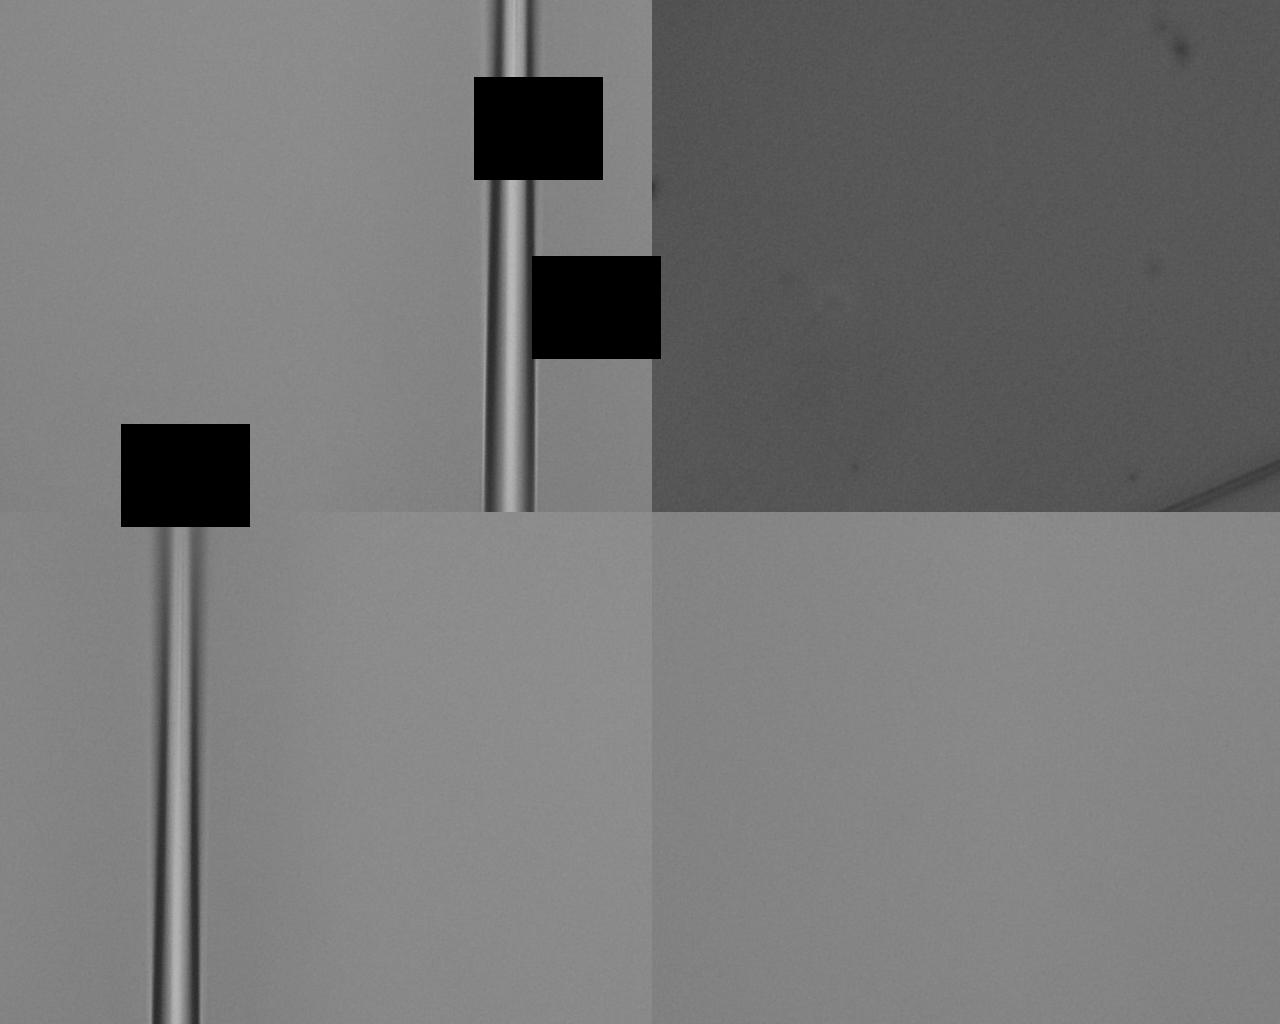fiber: (127, 575, 1151, 595)
